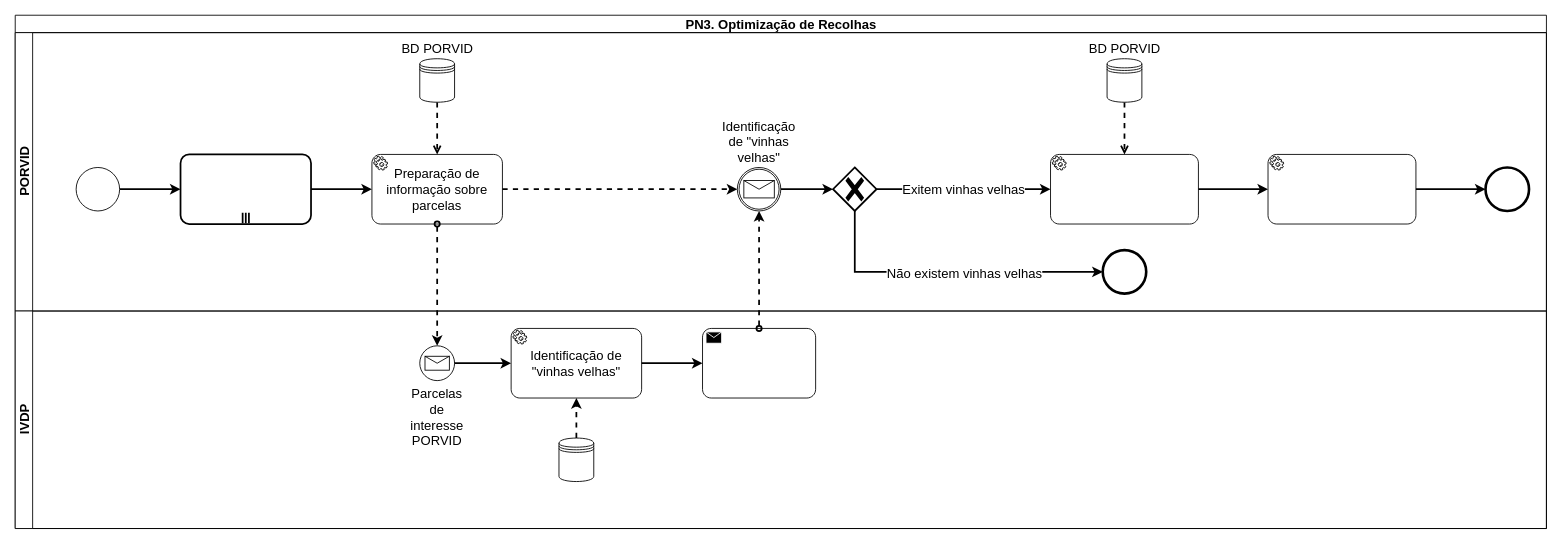
This 1562x544 diagram has some shape labels left out. Each missing label, with the centre of its shape:
Agrupamento de vinhas: the point at 1341,189
BD IVDP: the point at 576,459
Identificação de vinhas velhas geograficamente próximas: the point at 1124,189
Notificar PORVID: the point at 759,363
Parcelas de interesse a prospetar: the point at 245,188
